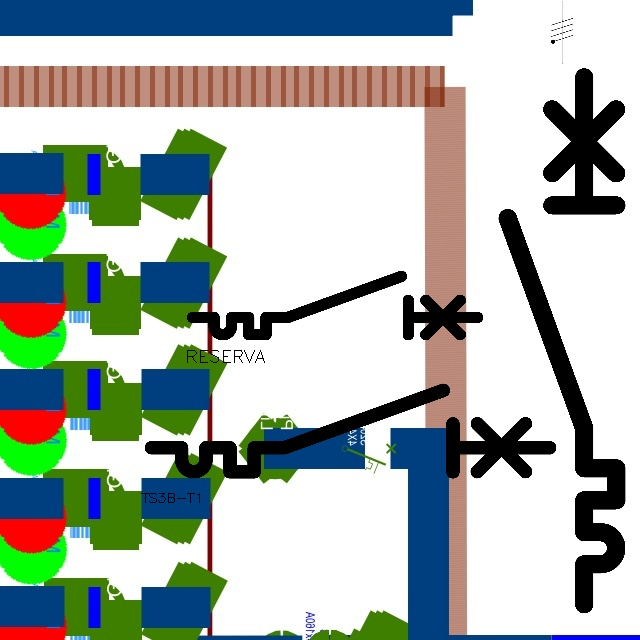interruptor_termomagnetico: (494, 63, 630, 617), (141, 380, 560, 482), (185, 269, 485, 342)
